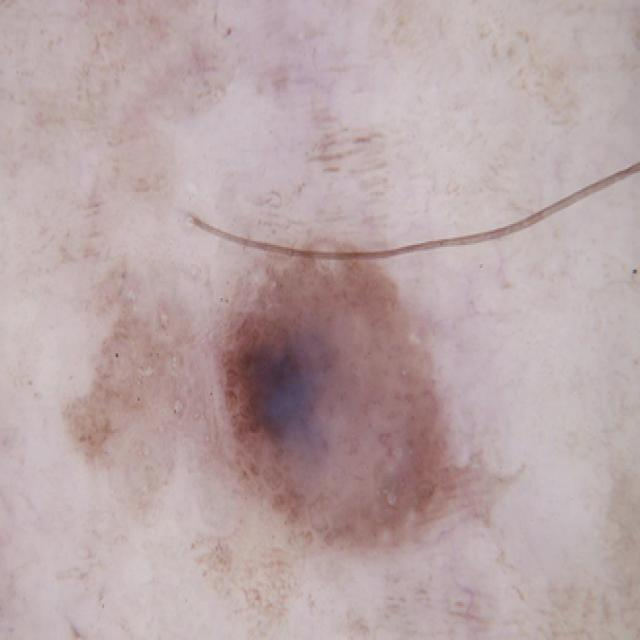Keratosis: (152, 158, 480, 567)
